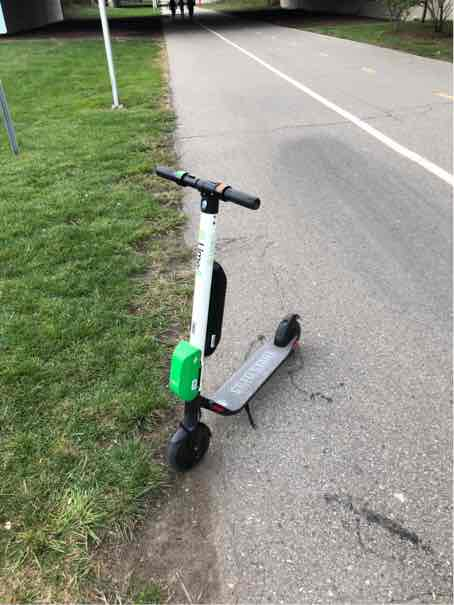scooter: (141, 158, 316, 487)
